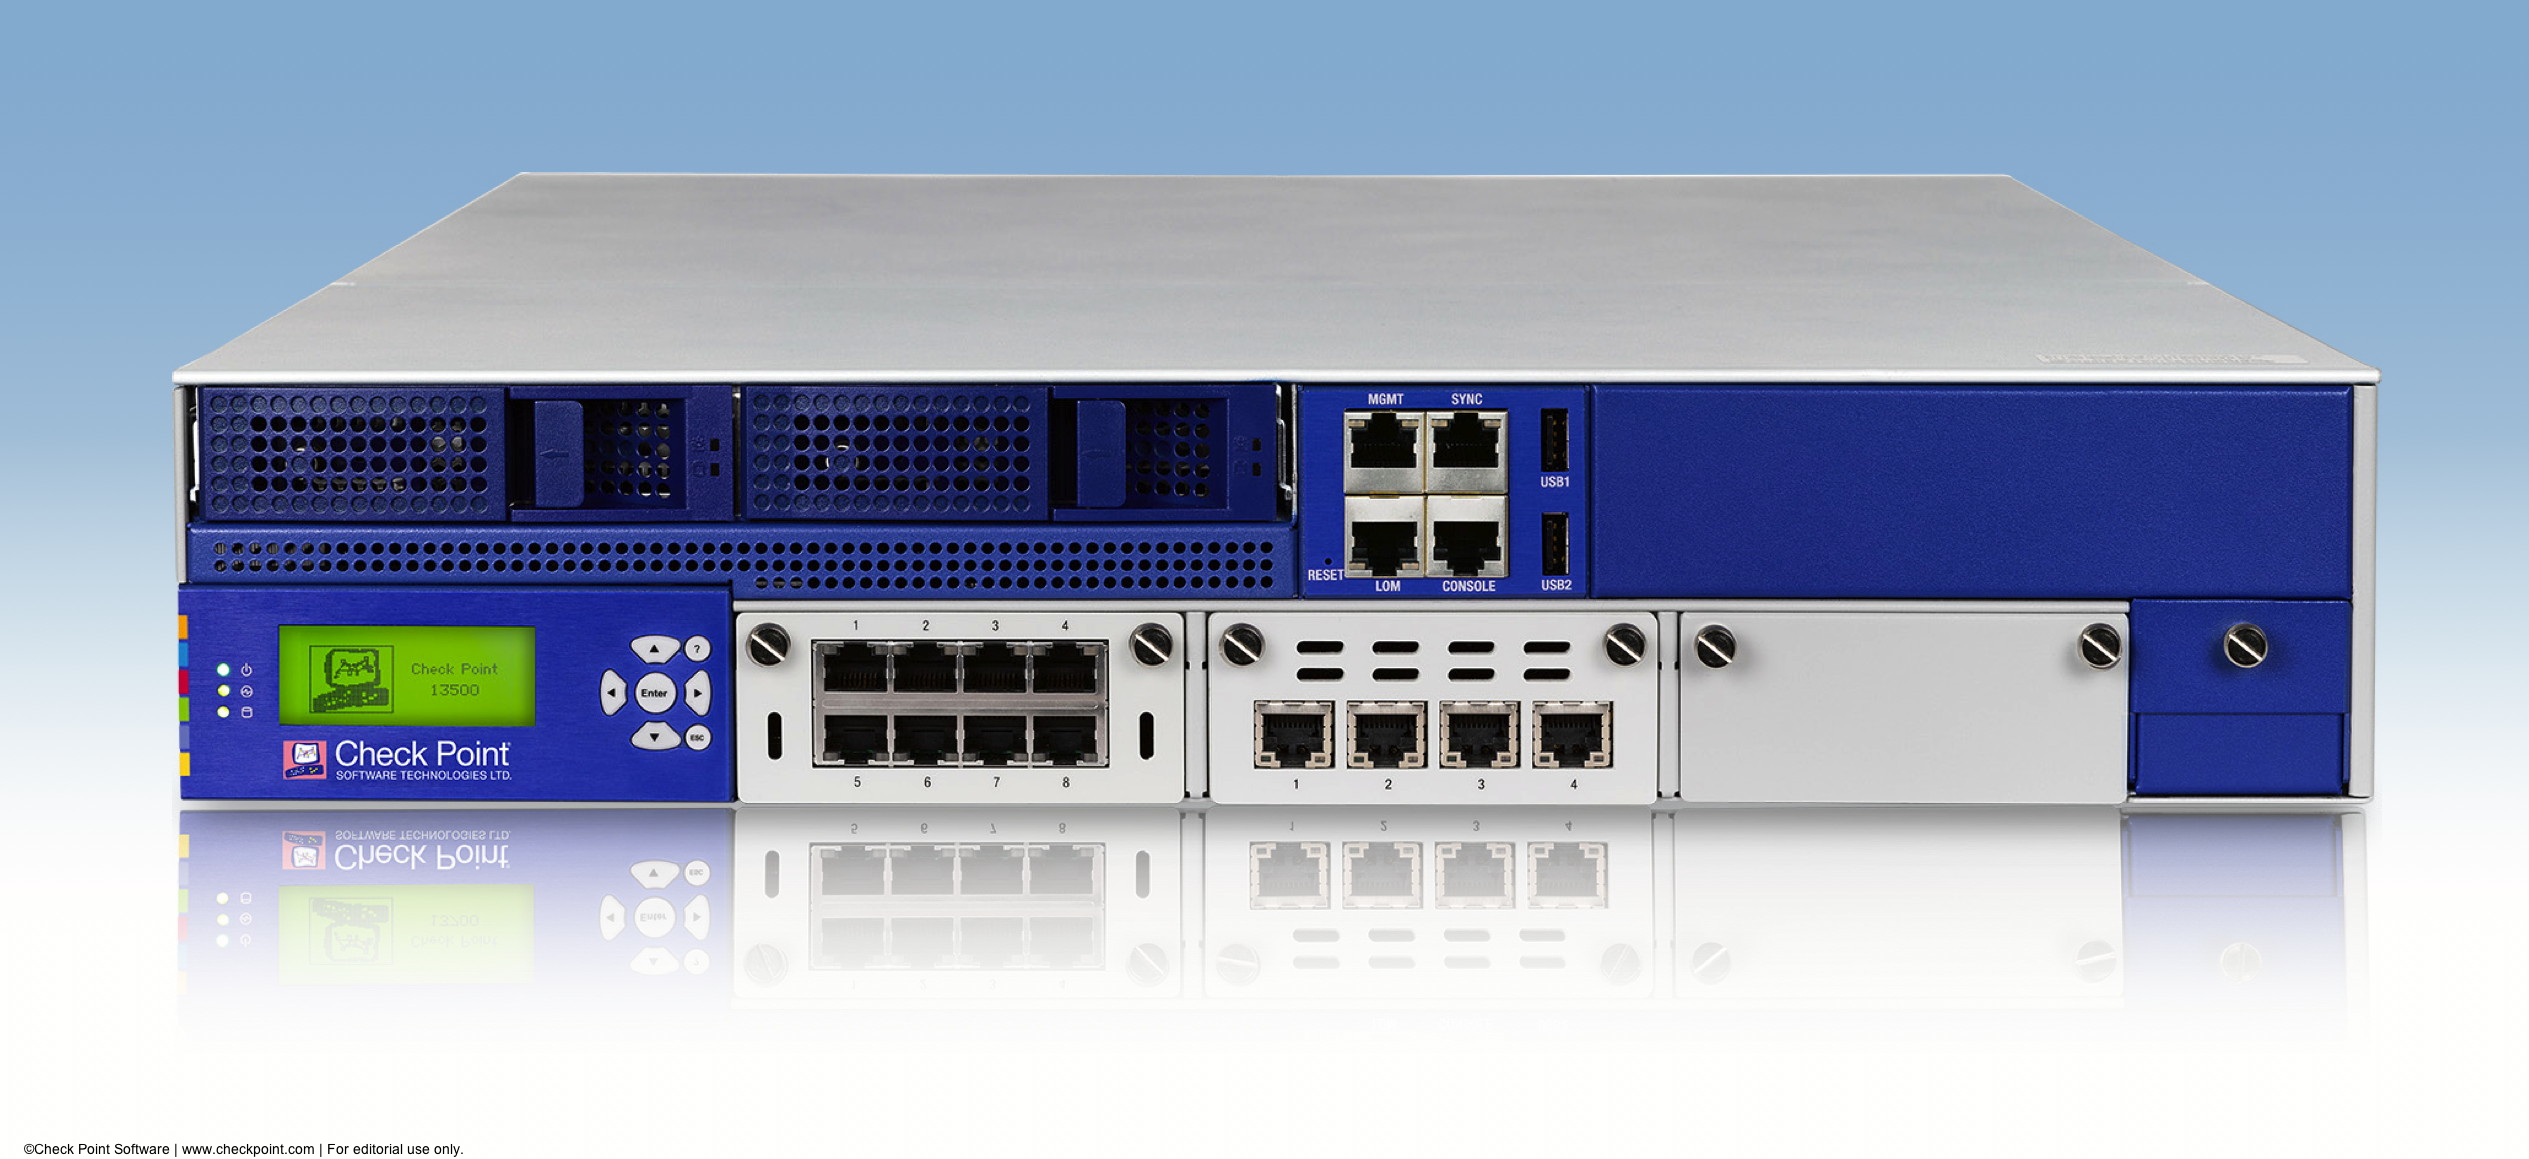Firewall: (118, 226, 2442, 874)
